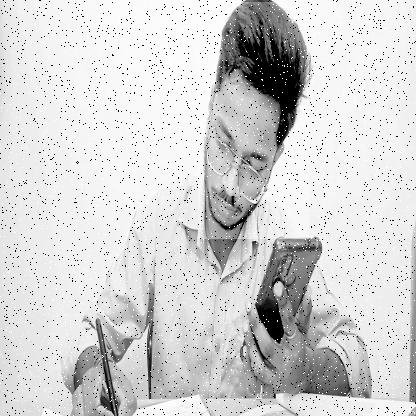Distracted: (198, 2, 309, 239)
